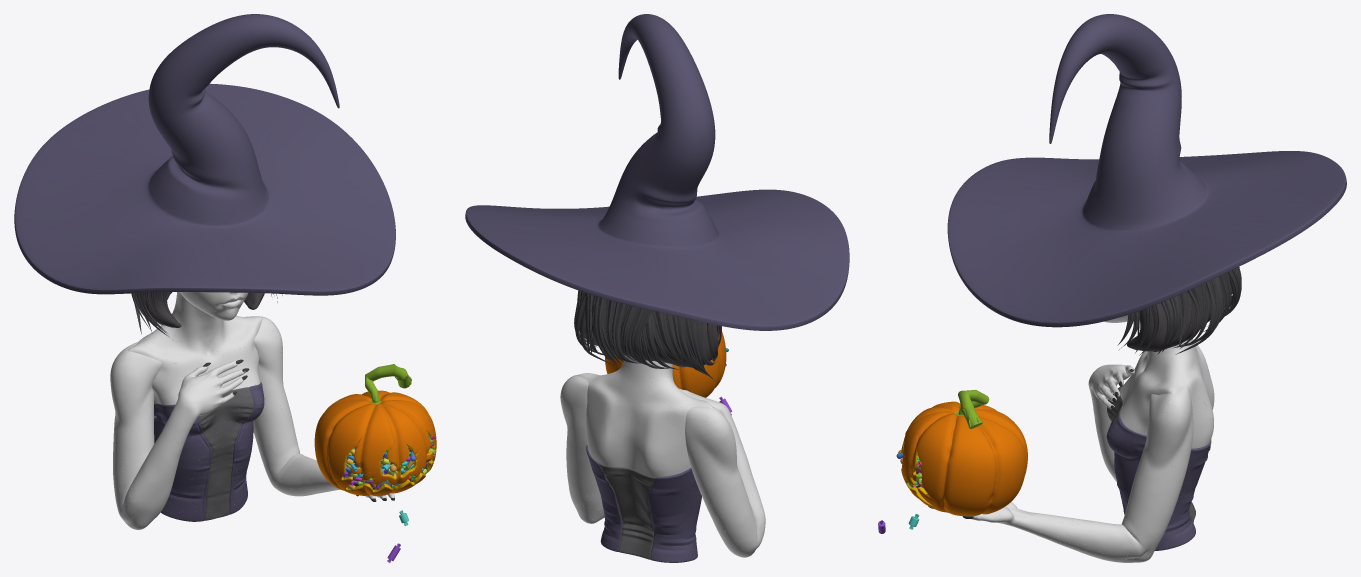
Rendered from happy_halloween-transformed.glb.
3 renders of one model, left to right at view 1: azimuth 30°, elevation 25°; view 2: azimuth 150°, elevation 25°; view 3: azimuth 270°, elevation 25°, orthographic. The views are drawn at different scales.
Visible parts, largest first — view 1: Object_9, Object_11, Object_7, Object_15, Object_13; view 2: Object_9, Object_11, Object_7, Object_15, Object_13; view 3: Object_9, Object_11, Object_13, Object_15, Object_7.
Part boxes in pixels (bbox=[...]): Object_9: bbox=[14, 83, 436, 562]; Object_11: bbox=[14, 14, 433, 521]; Object_7: bbox=[110, 292, 394, 529]; Object_15: bbox=[16, 15, 436, 560]; Object_13: bbox=[116, 43, 435, 516]; Object_9: bbox=[465, 151, 849, 523]; Object_11: bbox=[465, 14, 848, 562]; Object_7: bbox=[561, 291, 765, 557]; Object_15: bbox=[466, 26, 849, 562]; Object_13: bbox=[466, 38, 757, 558]; Object_9: bbox=[878, 93, 1346, 533]; Object_11: bbox=[906, 14, 1346, 562]; Object_13: bbox=[902, 27, 1345, 560]; Object_15: bbox=[878, 15, 1346, 561]; Object_7: bbox=[928, 267, 1241, 518].
Size of the model in its own units: 4.17 by 6.06 by 4.86.
